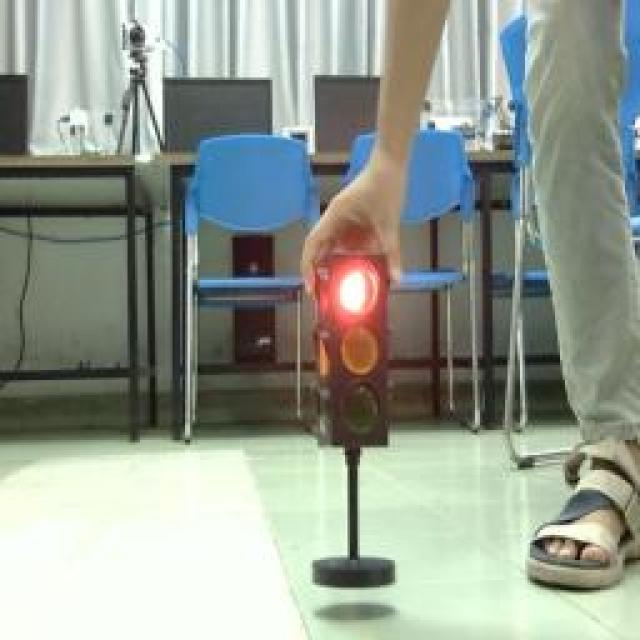-: (337, 259, 385, 321)
